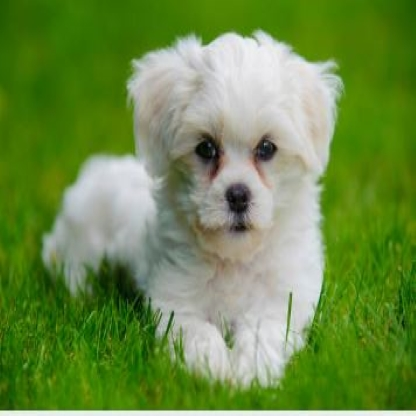maltese: (49, 19, 352, 385)
